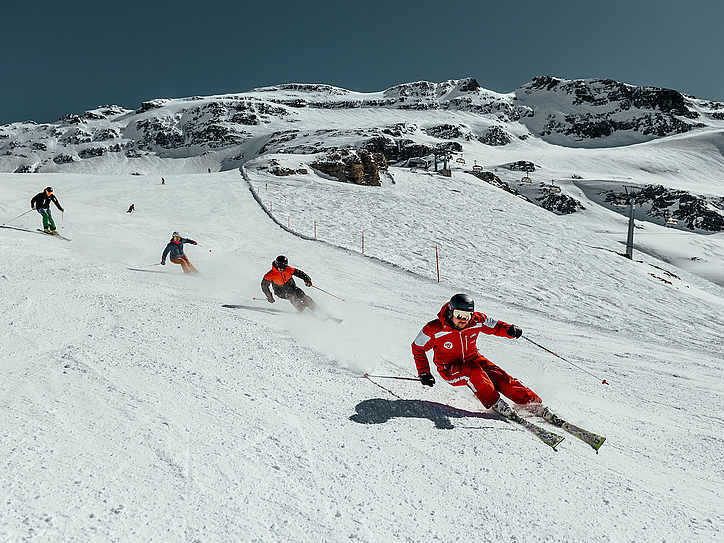skier: (355, 274, 629, 478), (233, 250, 345, 337), (6, 177, 83, 253), (142, 217, 210, 297), (117, 194, 144, 224)
